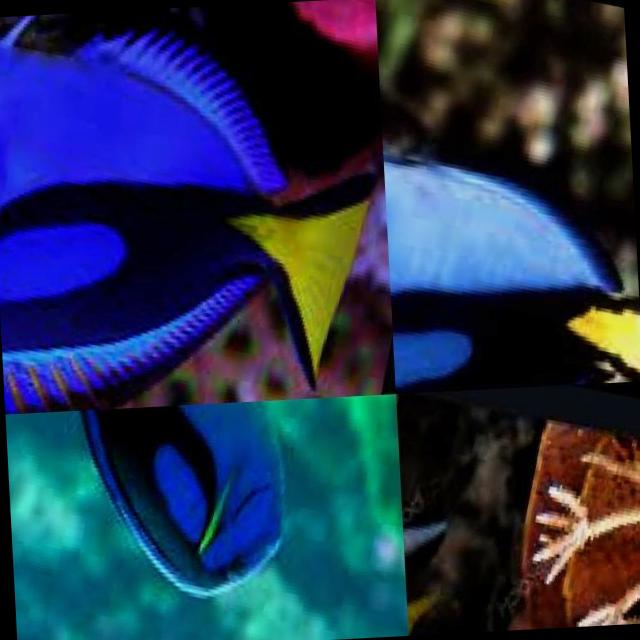BlueTang: (0, 19, 370, 414), (381, 157, 640, 393), (82, 398, 300, 604)
